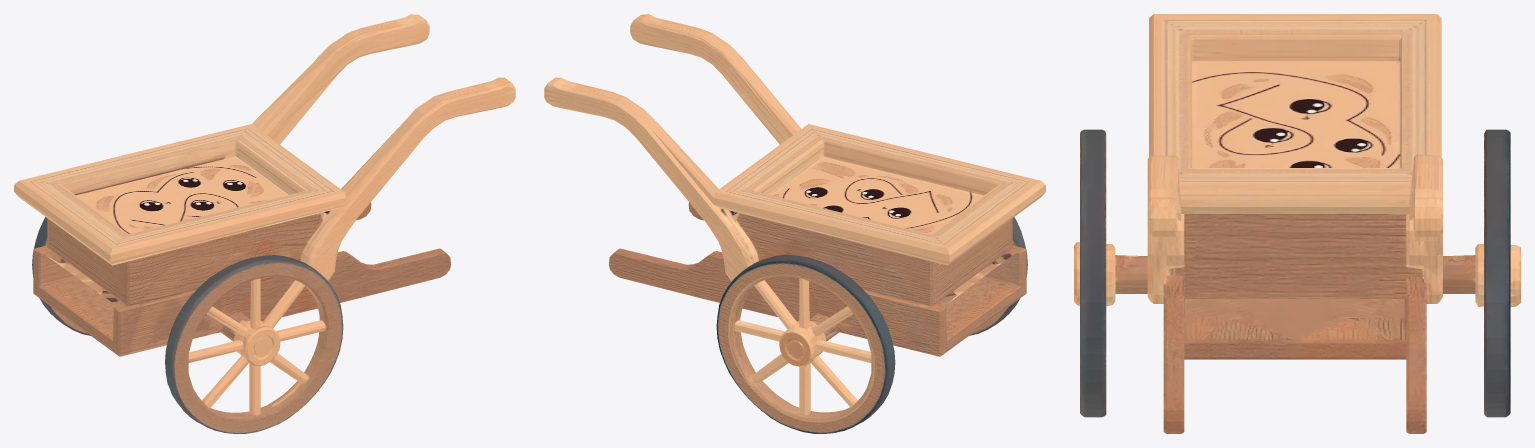
File: env_cart.glb
3 views of the same model, side by side, from view 1: azimuth 30°, elevation 25°; view 2: azimuth 150°, elevation 25°; view 3: azimuth 270°, elevation 25° (orthographic). The views are drawn at different scales.
Bounding box in the file's own units: 1.9 × 1.19 × 1.19.
Materials: 1 (1 with a texture image).
